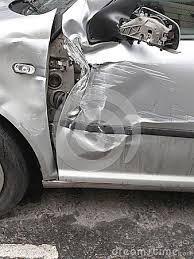Broken-glass: (121, 7, 179, 54)
Dent: (9, 27, 86, 131), (57, 120, 137, 175)
Scratch: (84, 61, 171, 95)
